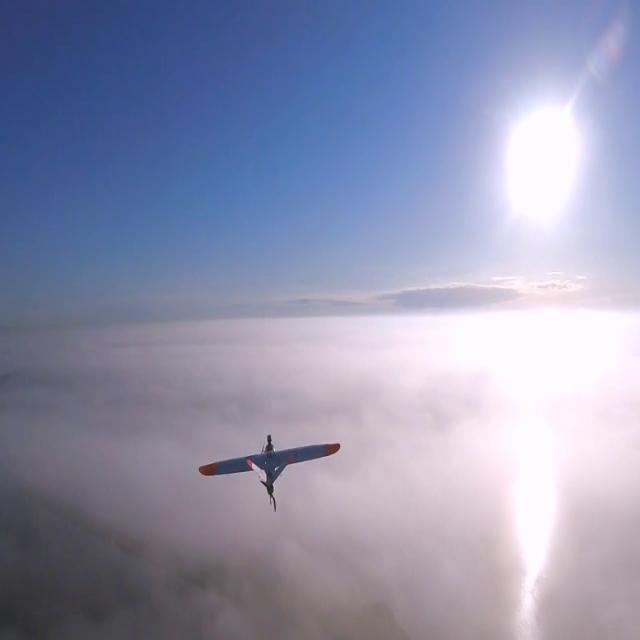iha: (189, 465, 335, 482)
